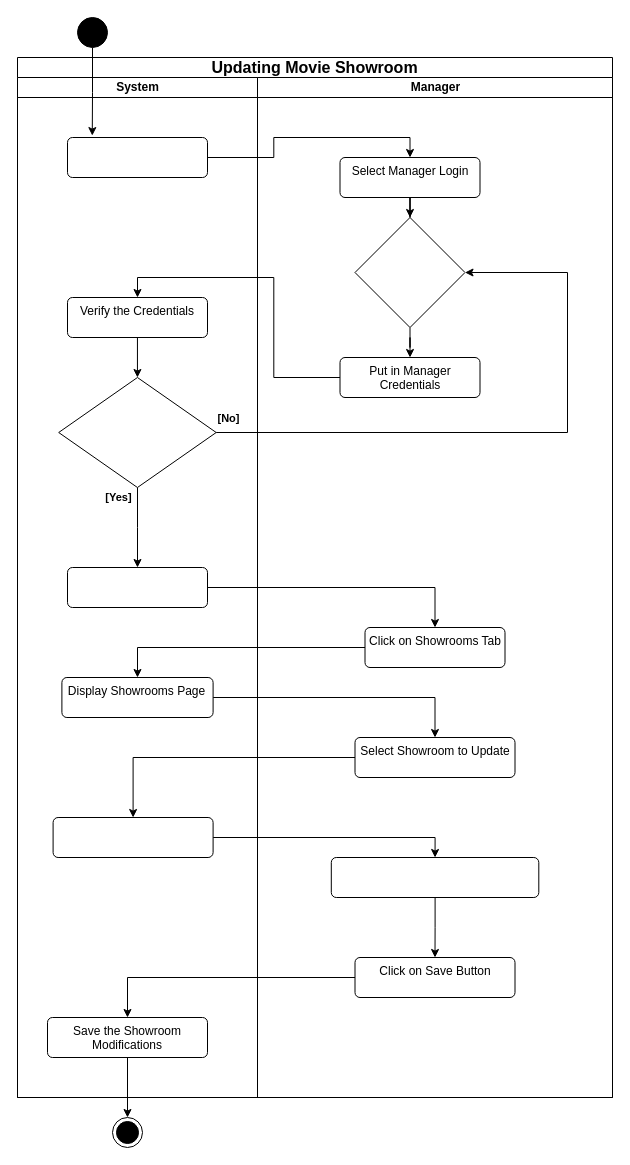
This 630x1165 diagram has some shape labels left out. The shapes that lost their labels are listed below. From the top down, each one's centre as x and y in pixels, then its label:
the point at 137,157: Show Login Page
the point at 137,432: Correct Credentials?
the point at 137,587: Display Landing Page
the point at 132,837: Display Showroom Details
the point at 434,877: Update Movie Showroom
